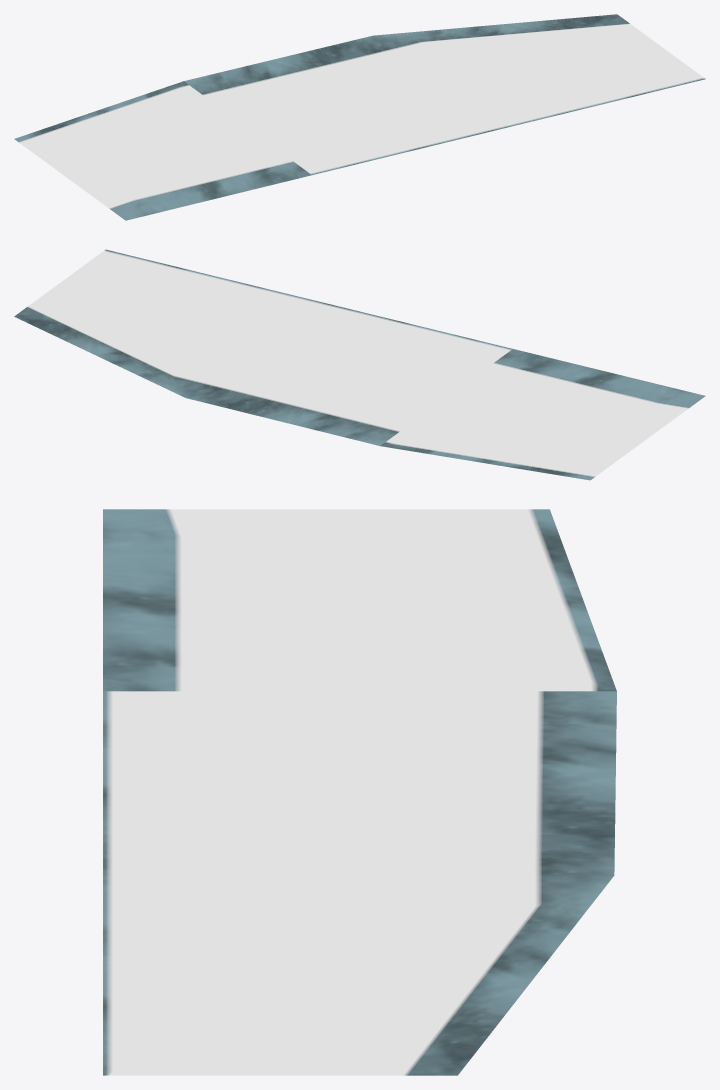
The model's file is dibiaocaoditiekuai-04.FBX.
3 renders of one model, top to bottom at view 1: azimuth 30°, elevation 25°; view 2: azimuth 150°, elevation 25°; view 3: azimuth 270°, elevation 25°, orthographic. The views are drawn at different scales.
Visible parts, largest first — view 1: Sphere002; view 2: Sphere002; view 3: Sphere002.
Part boxes in pixels (box(x1,y1,x2,y2)): Sphere002: box(14, 14, 705, 220); Sphere002: box(14, 249, 705, 480); Sphere002: box(103, 509, 616, 1075).
Bounding box in the file's own units: 9 × 9.78e-16 × 3.45.
